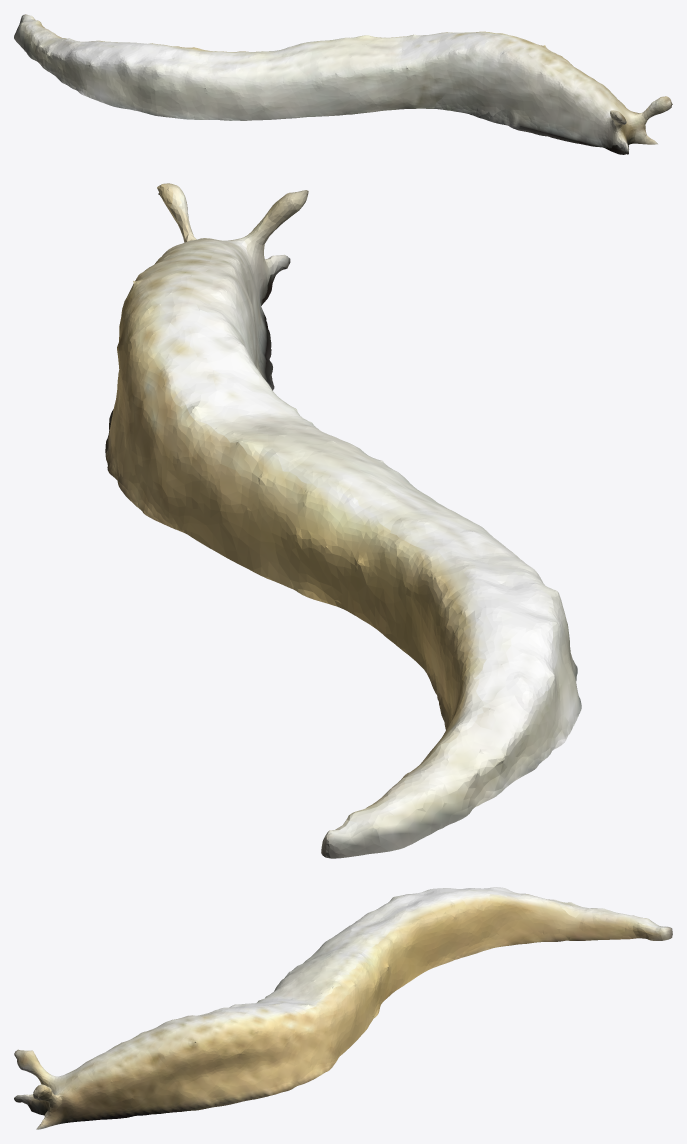
Rendered from Snail.glb.
The picture shows the model from 3 angles, top to bottom: view 1: azimuth 30°, elevation 25°; view 2: azimuth 150°, elevation 25°; view 3: azimuth 270°, elevation 25°; orthographic projection. The views are drawn at different scales.
Parts seen in each view (by area): view 1: mesh.010; view 2: mesh.010; view 3: mesh.010.
Boxes of the visible parts, box(x1,y1,x2,y2) form: mesh.010: box(14, 14, 672, 154); mesh.010: box(105, 183, 581, 858); mesh.010: box(14, 887, 672, 1129).
Size of the model in its own units: 0.214 by 0.0331 by 0.2721.
Materials: 1 (1 with a texture image).
